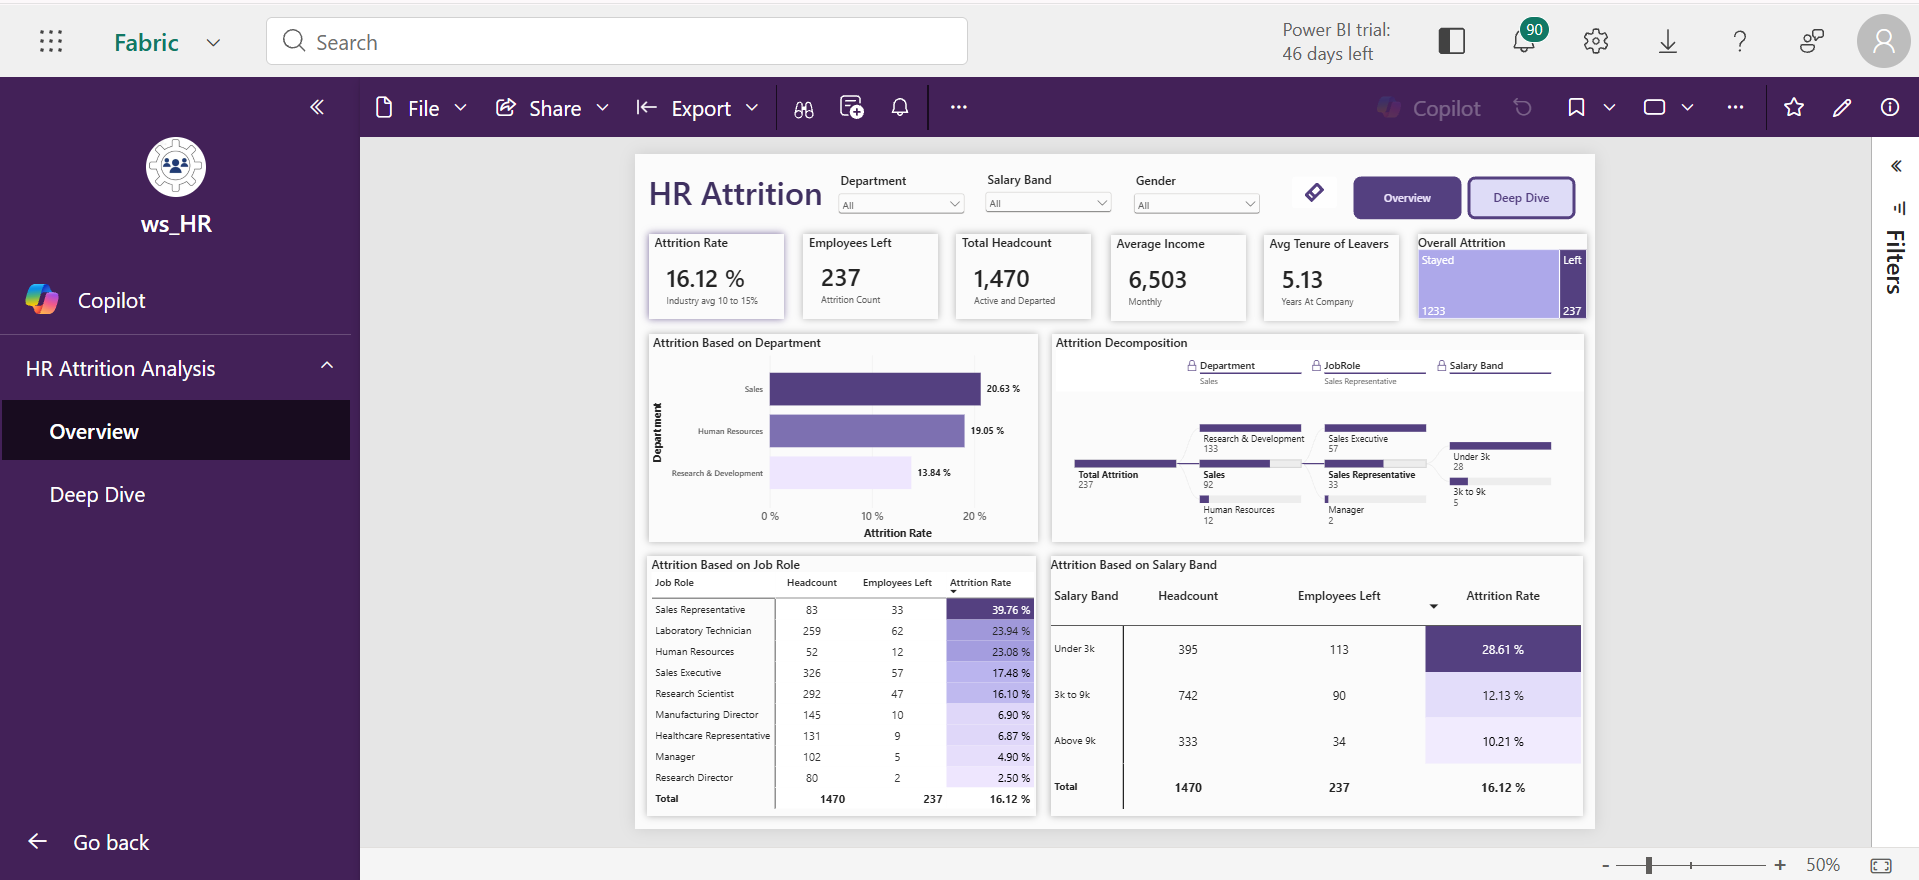

The page's visual inventory and layout, read from the dashboard file:
{"tool":"powerbi","page":{"name":"Overview","canvas":[1280,900],"ordinal":0},"visuals":[{"type":"textbox","box":[17.5,22.5,280,77.5],"z":0},{"type":"slicer","fields":{"Values":["HR_employees.Department"]},"box":[265,23.7,178,73],"z":1000},{"type":"slicer","fields":{"Values":["HR_employees.Salary Band"]},"box":[462.3,22.7,178.3,73.3],"z":2000},{"type":"slicer","fields":{"Values":["HR_employees.Gender"]},"box":[660,24.3,178,73],"z":3000},{"type":"actionButton","box":[875,30,60,42.5],"z":4000},{"type":"pageNavigator","box":[958.3,30,297.5,57.5],"z":5000},{"type":"cardVisual","title":"Employees Left","fields":{"Data":["HR_employees.Employees Left"]},"box":[223.3,106.7,180,113.3],"z":6000},{"type":"cardVisual","title":"Attrition Rate","fields":{"Data":["HR_employees.Attrition %"]},"box":[18.3,106.7,180,114],"z":7000},{"type":"cardVisual","title":"Total Headcount","fields":{"Data":["HR_employees.Total Employees"]},"box":[428.3,105.7,180,114],"z":8000},{"type":"cardVisual","title":"Average Income","fields":{"Data":["Avg(HR_employees.MonthlyIncome)"]},"box":[633.3,107.1,180,114],"z":9000},{"type":"cardVisual","title":"Avg Tenure of Leavers","fields":{"Data":["HR_employees.Avg Tenure of Leavers"]},"box":[838.3,107.1,180,114],"z":10000},{"type":"treemap","title":"Overall Attrition","fields":{"Values":["HR_employees.Employees Left","HR_employees.Employees Stayed"]},"box":[1043.3,106.7,225,113.3],"z":11000},{"type":"barChart","title":"Attrition Based on Department","fields":{"Category":["HR_employees.Department"],"Y":["HR_employees.Attrition %"]},"box":[17.1,240,518.6,277],"z":12000},{"type":"decompositionTreeVisual","title":"Attrition Decomposition","fields":{"Analyze":["HR_employees.Employees Left"],"ExplainBy":["HR_employees.Department","HR_employees.JobRole","HR_employees.Salary Band"]},"box":[555.7,240,709,277],"z":13000},{"type":"pivotTable","title":"Attrition Based on Job Role","fields":{"Rows":["HR_employees.JobRole"],"Values":["HR_employees.Total Employees","HR_employees.Employees Left","HR_employees.Attrition %"]},"box":[16.2,535,518.3,346.7],"z":14000},{"type":"pivotTable","title":"Attrition Based on Salary Band","fields":{"Rows":["HR_employees.Salary Band"],"Values":["HR_employees.Total Employees","HR_employees.Employees Left","HR_employees.Attrition %"]},"box":[553.8,536.2,709,346.7],"z":15000}]}

Visuals, with their boxes on the page's 1280x900 design canvas (x1, y1, x2, y2). These are canvas units, not pixel positions in the 1919x880 screenshot, which may show the page scaled, cropped or inside an application window:
textbox: rect(18, 22, 298, 100)
slicer - HR_employees.Department: rect(265, 24, 443, 97)
slicer - HR_employees.Salary Band: rect(462, 23, 641, 96)
slicer - HR_employees.Gender: rect(660, 24, 838, 97)
actionButton: rect(875, 30, 935, 72)
pageNavigator: rect(958, 30, 1256, 88)
"Employees Left" cardVisual: rect(223, 107, 403, 220)
"Attrition Rate" cardVisual: rect(18, 107, 198, 221)
"Total Headcount" cardVisual: rect(428, 106, 608, 220)
"Average Income" cardVisual: rect(633, 107, 813, 221)
"Avg Tenure of Leavers" cardVisual: rect(838, 107, 1018, 221)
"Overall Attrition" treemap: rect(1043, 107, 1268, 220)
"Attrition Based on Department" barChart: rect(17, 240, 536, 517)
"Attrition Decomposition" decompositionTreeVisual: rect(556, 240, 1265, 517)
"Attrition Based on Job Role" pivotTable: rect(16, 535, 534, 882)
"Attrition Based on Salary Band" pivotTable: rect(554, 536, 1263, 883)
